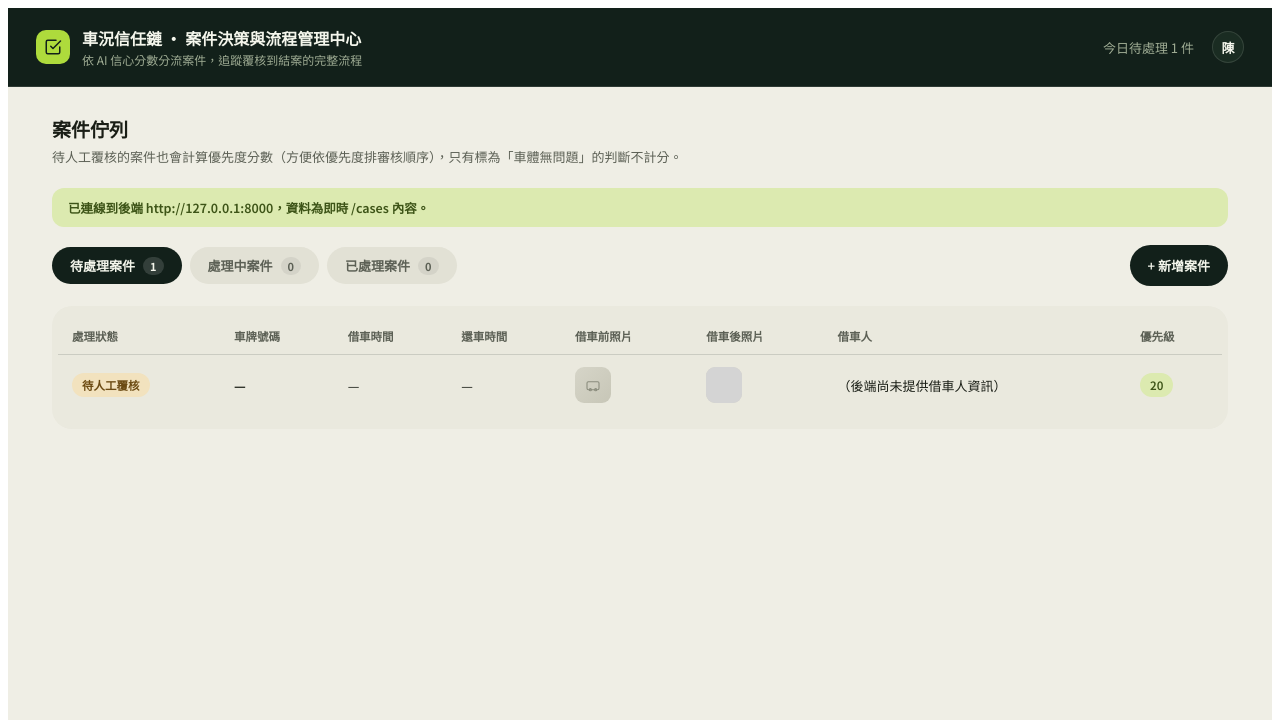
Test: production backstage console › submits confirmed review to Module E
Expected: the text "已連線到後端 http://127.0.0.1:8000，資料為即時 /cases 內容。" is shown, [52,188,1228,227]
Step 1. Click the row "待人工覆核 — — — （後端尚未提供借車人資訊） 20" → (640, 385), box [58,354,1222,415]
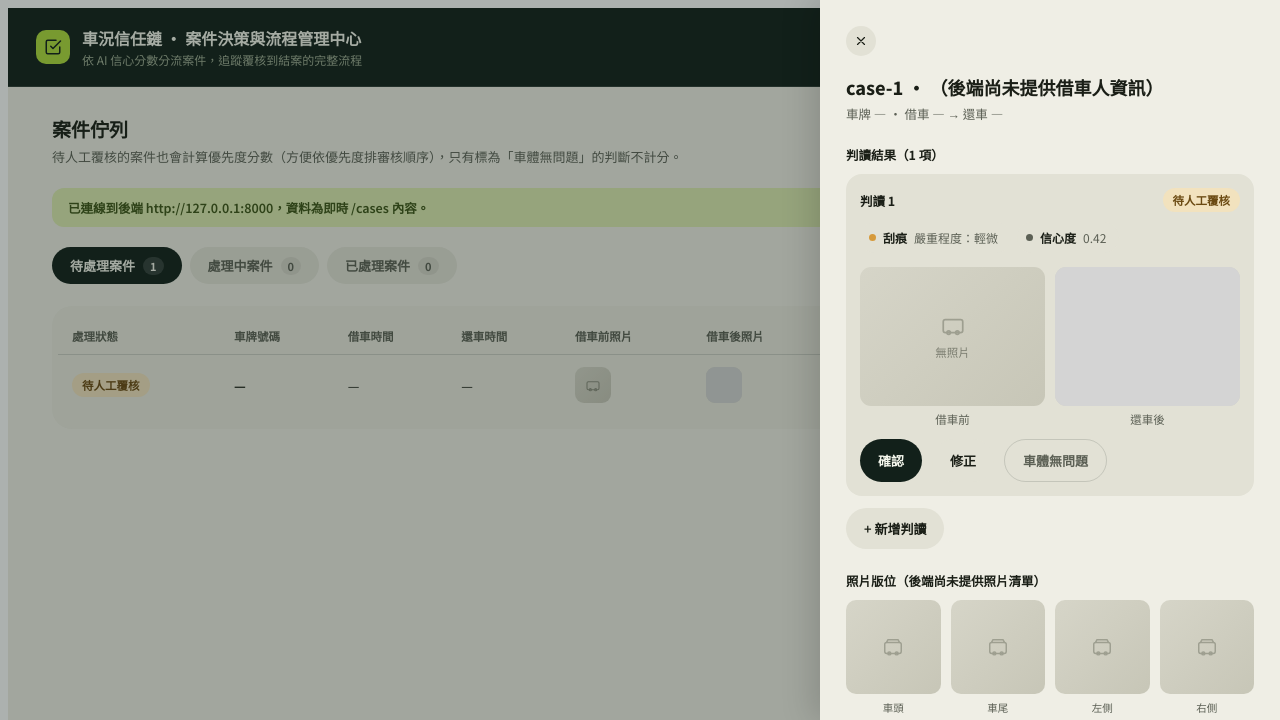
Step 2. Click the button "確認" → (891, 460), box [860,439,922,482]
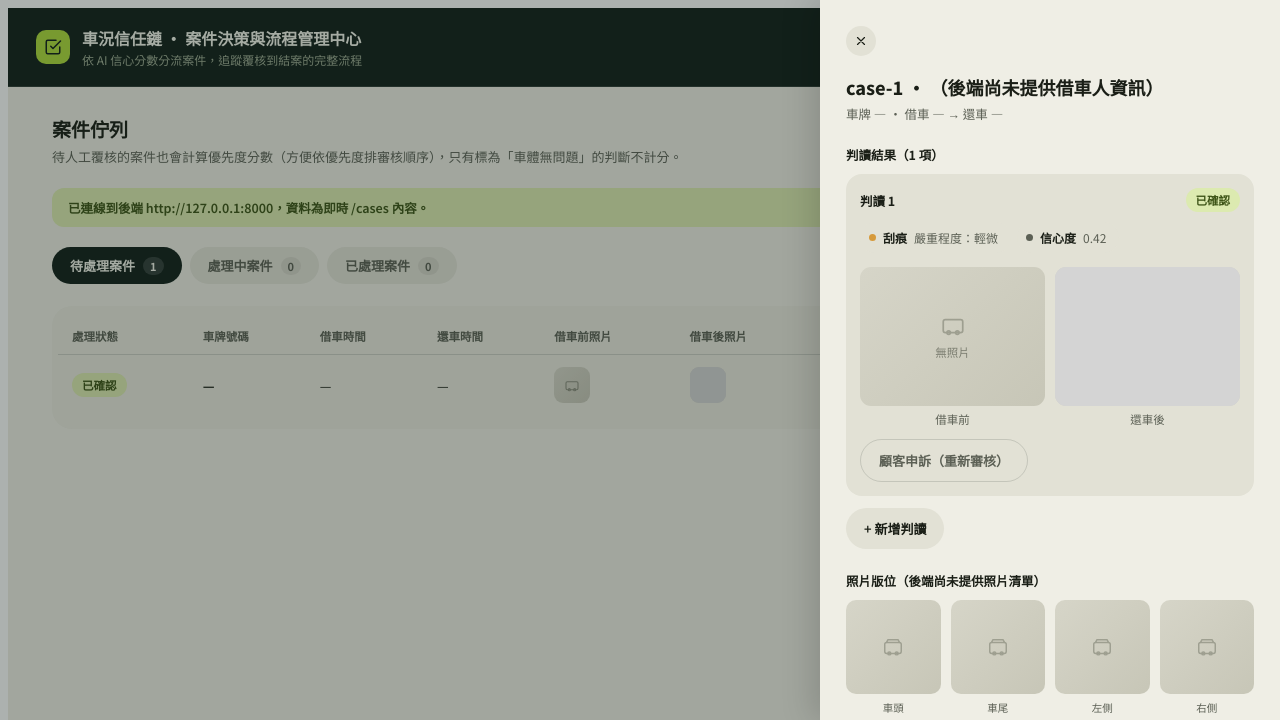
Expected: the text "已確認" in the row of "20" is shown, [82,377,116,393]
